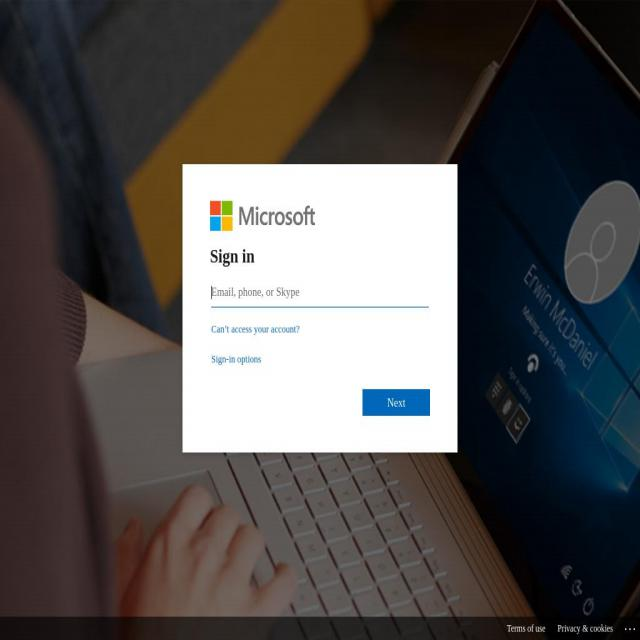login-form: (179, 158, 469, 455)
navigation-links: (496, 617, 616, 638)
options: (622, 616, 638, 640)
